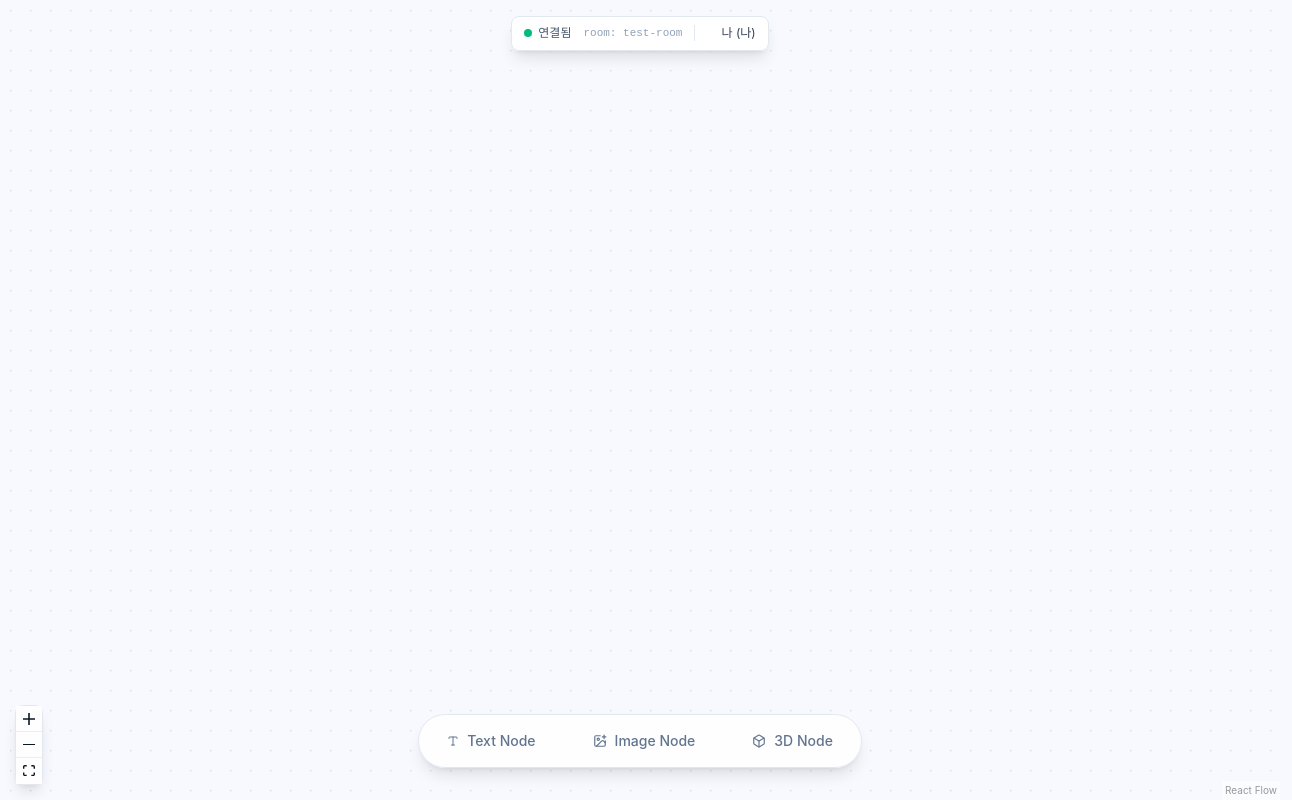
Test: PipelineCanvas › adds a Text Prompt node card when the toolbar button is clicked
What coordinates should you click on to do the following:
click the button "Text Node"
I would click on:
 (491, 741)
Its box is x1=435 y1=723 x2=548 y2=759.
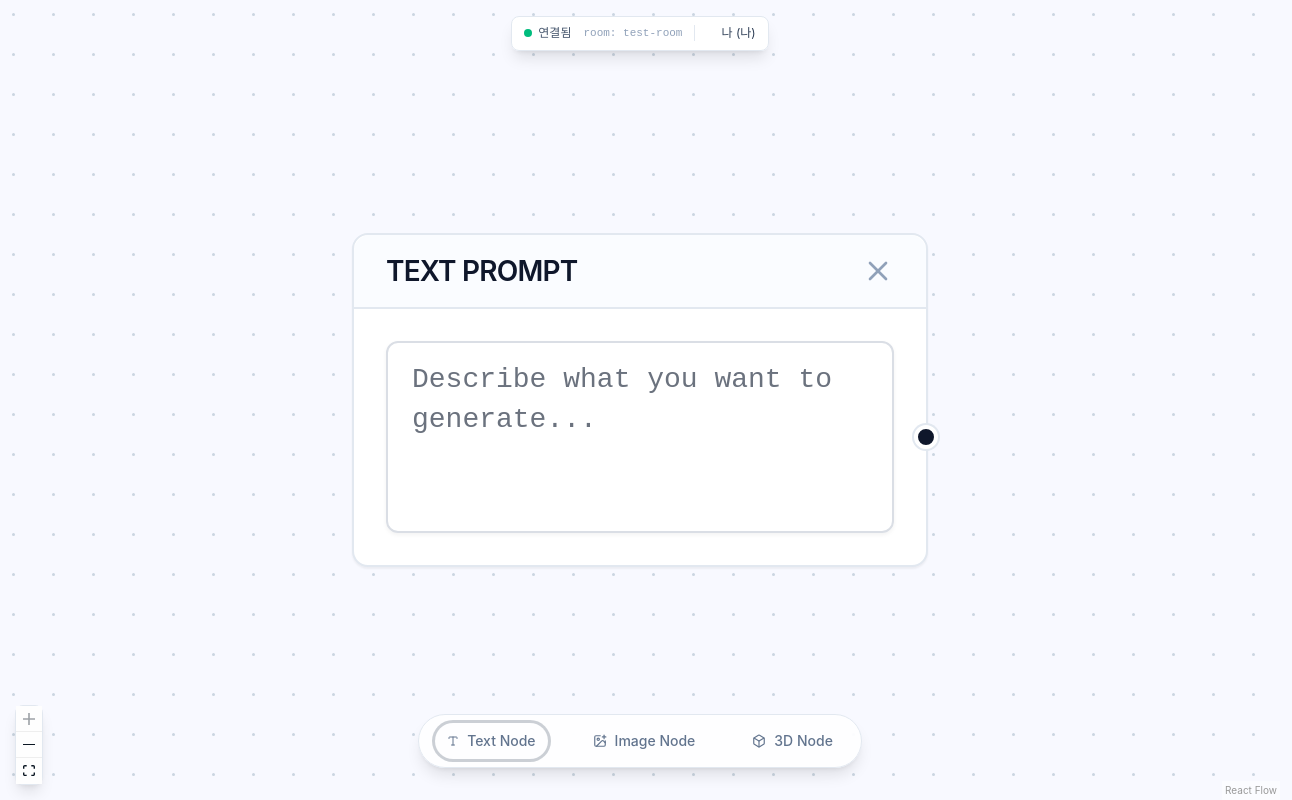
Now the text "Text Prompt" is shown, box x1=386 y1=251 x2=578 y2=291
